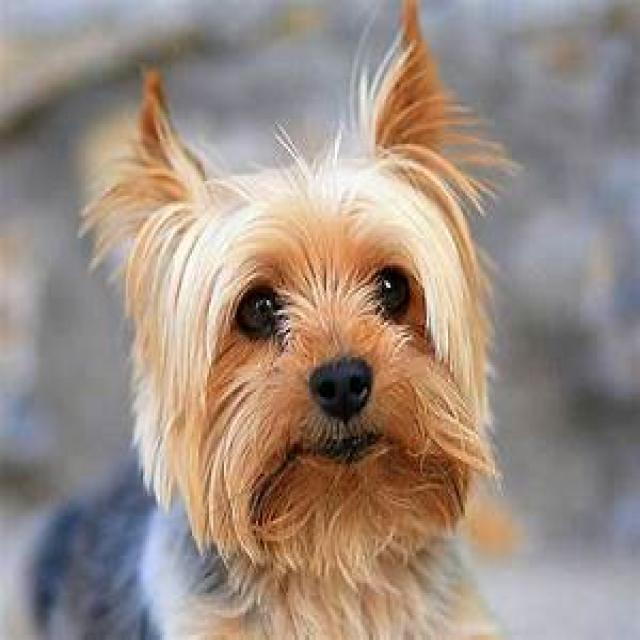dog: (38, 0, 491, 640)
